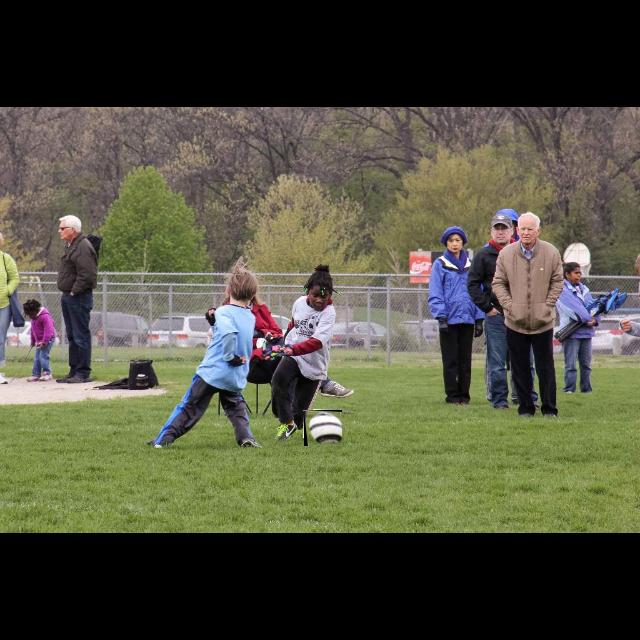Football: (304, 410, 342, 446)
